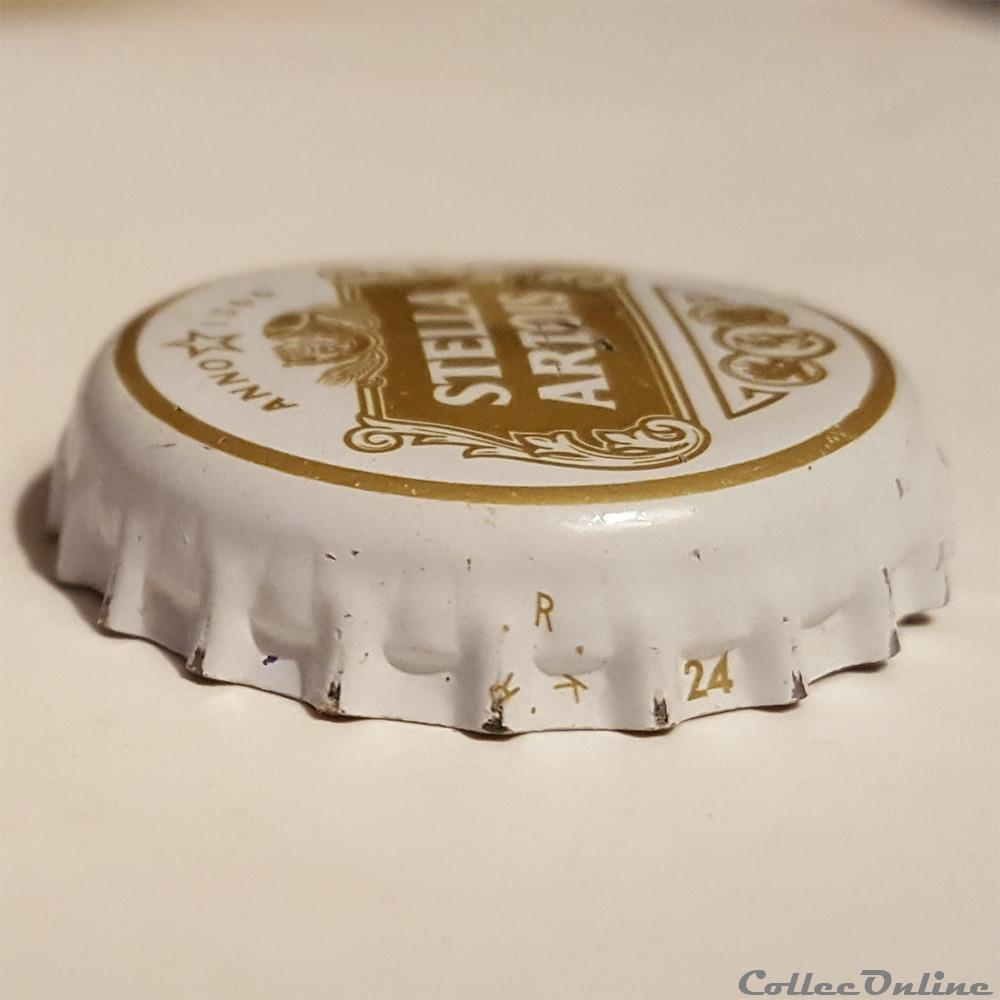metal: (50, 264, 950, 736)
